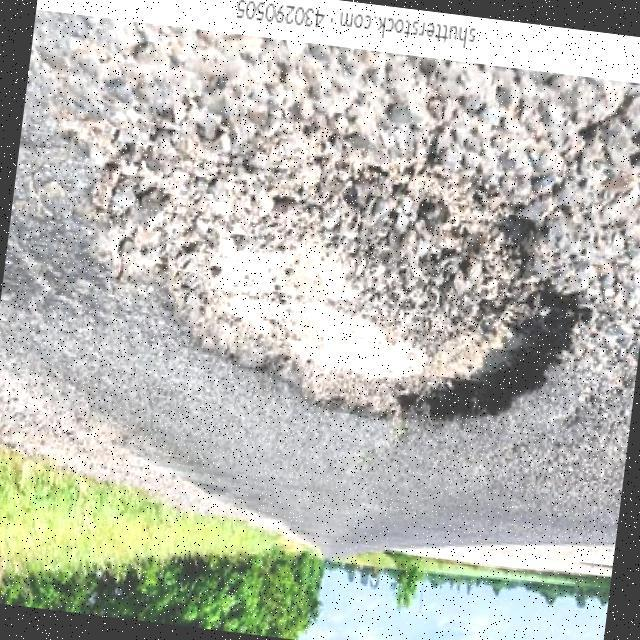Pothole: (104, 118, 579, 419)
